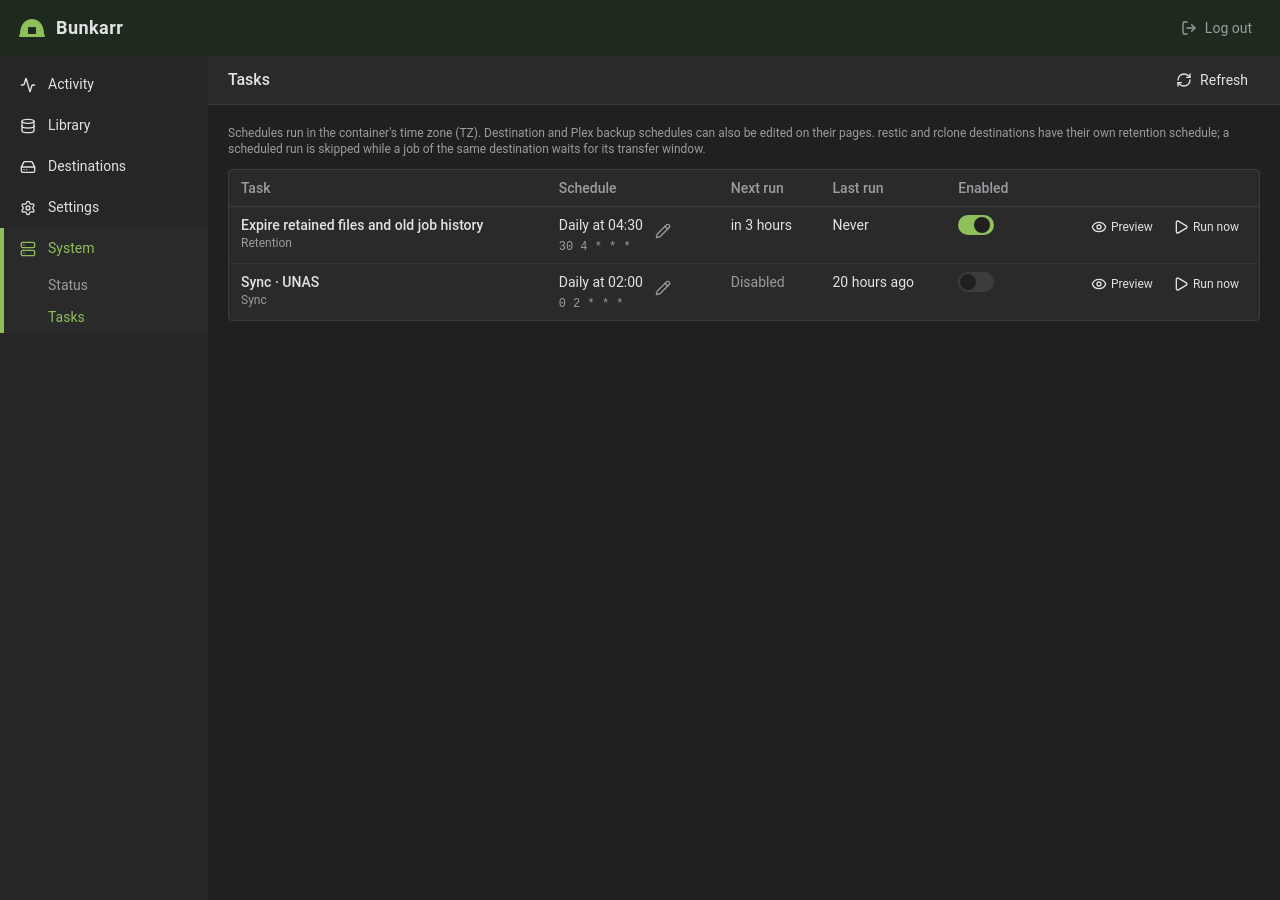
Test: System → Tasks › previews retention: a dry run whose destination jobs list what would expire
Click the button with aria-label "Preview Expire retained files and old job history": (1122, 227) [1083,215,1161,239]
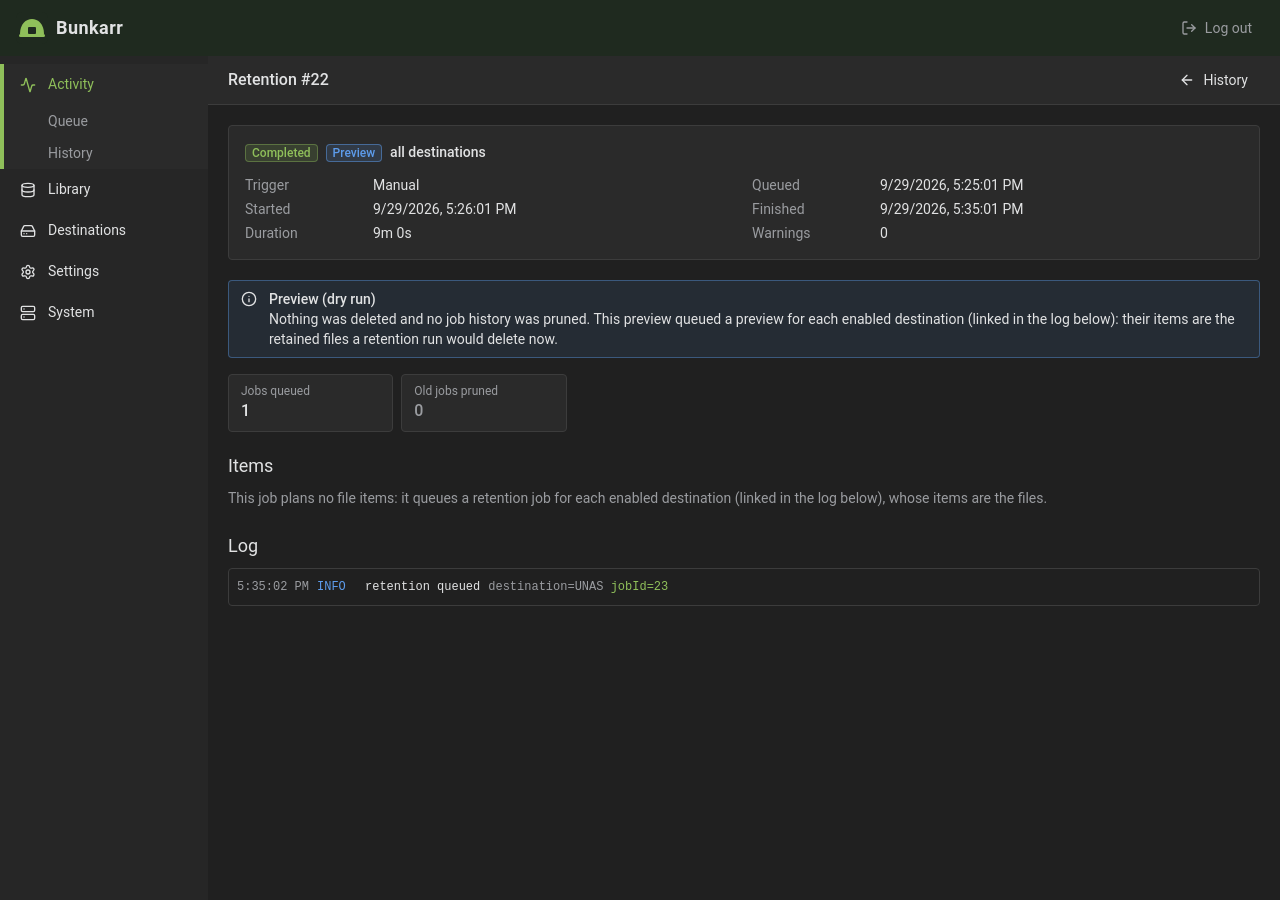
Now the heading "Retention #22" is shown, box [228,68,329,92]
Now the text "Nothing was deleted" is shown, box [269,311,1235,347]
# Its log links the destination's preview, whose items are the files a run would delete.
Click the link "jobId=23": (640, 587) [611,580,668,594]
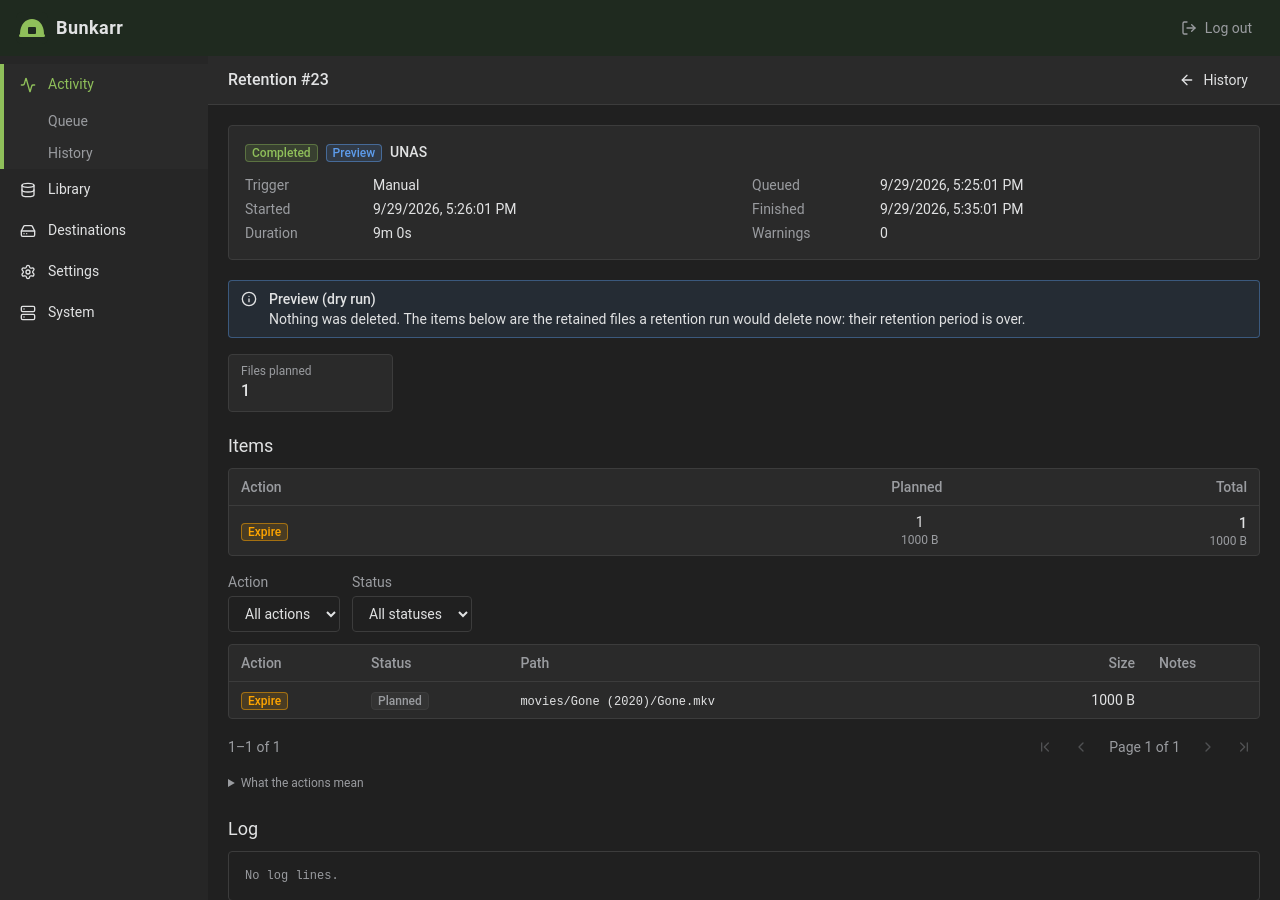
Now the heading "Retention #23" is shown, box [228,68,329,92]
Now the text "movies/Gone (2020)/Gone.mkv" is shown, box [520,695,715,709]
Now the text "retained files a retention run would delete now" is shown, box [269,311,1026,327]
